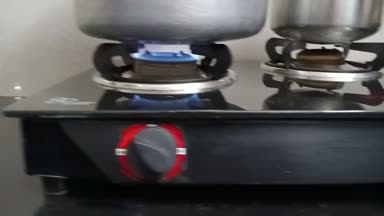flame_gas_on: (114, 41, 216, 183)
